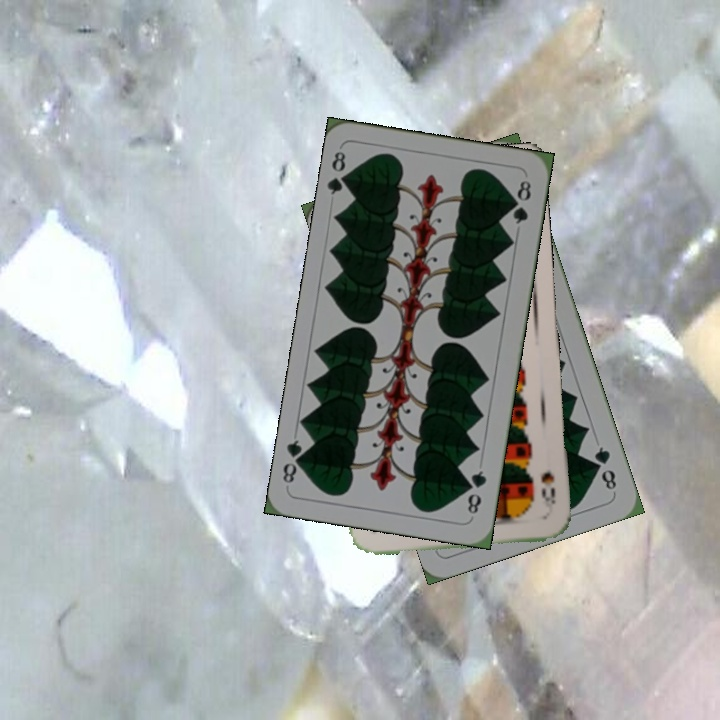G8: (324, 144, 354, 197), (590, 442, 619, 493), (463, 466, 489, 517)
S8: (536, 468, 558, 516)
